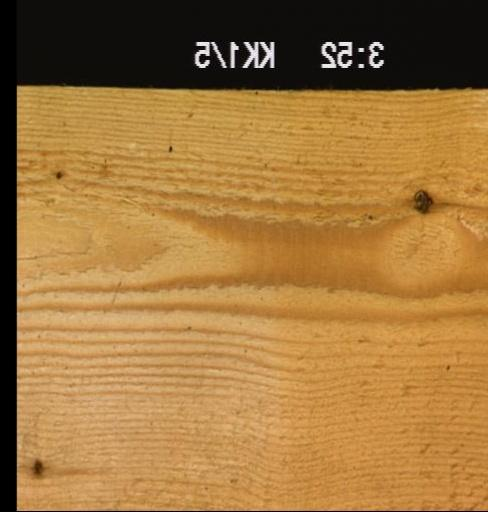dry_knot: (409, 185, 433, 213)
small_knot: (29, 455, 45, 475), (54, 166, 64, 180)
